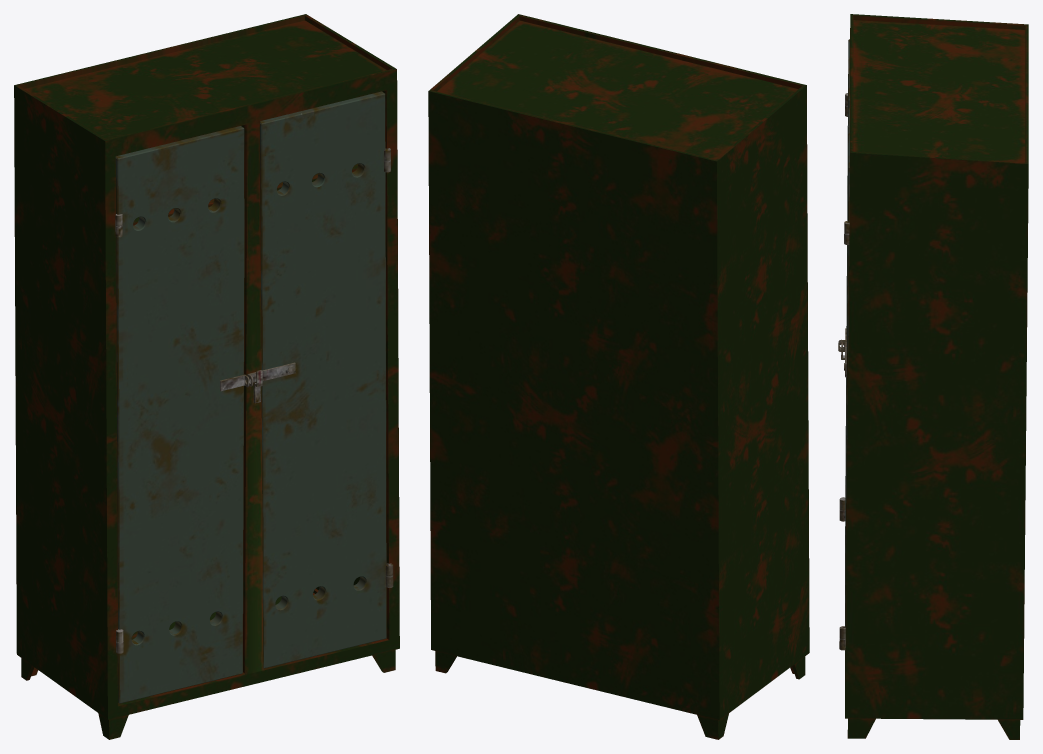
The model's file is rusty_cabinet.glb.
3 renders of one model, left to right at view 1: azimuth 30°, elevation 25°; view 2: azimuth 150°, elevation 25°; view 3: azimuth 270°, elevation 25°, orthographic. The views are drawn at different scales.
Visible parts, largest first — view 1: Box001; view 2: Box001; view 3: Box001.
Part boxes in pixels (x1,y1,x2,y2): Box001: [14, 14, 399, 739]; Box001: [428, 14, 809, 739]; Box001: [838, 14, 1028, 739].
Size of the model in its own units: 1.14 by 2.24 by 0.6584.
Materials: 3 (3 with a texture image).
